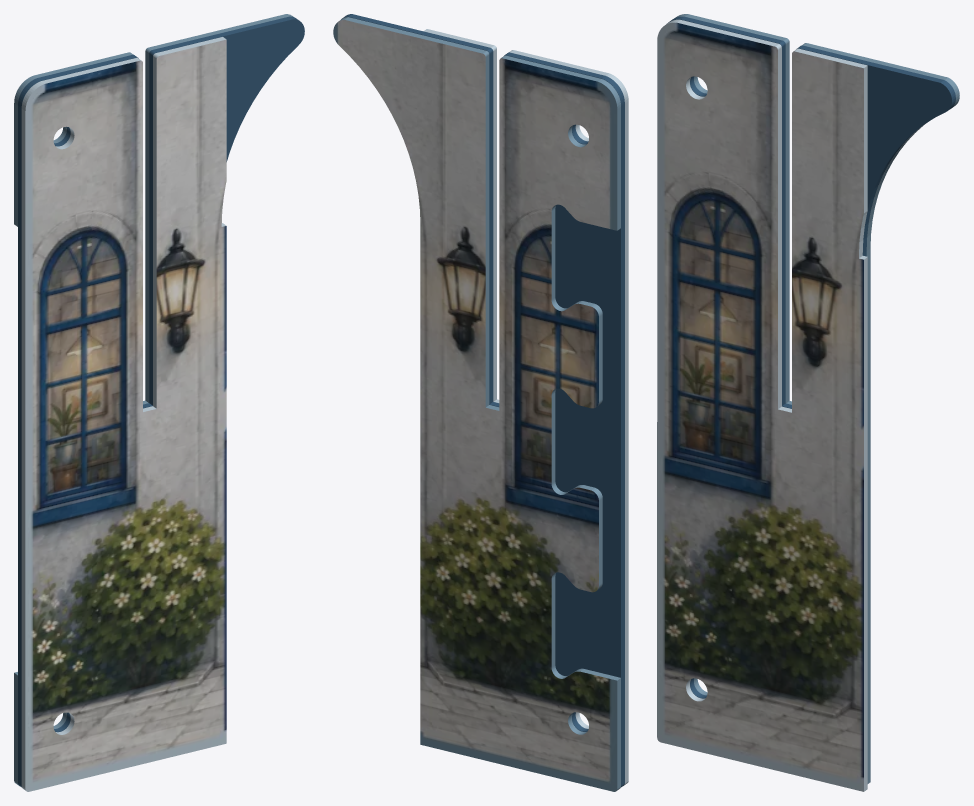
Rendered from door-panel-bottom-left-subpanel.glb.
3 views of the same model, side by side, from view 1: azimuth 30°, elevation 25°; view 2: azimuth 150°, elevation 25°; view 3: azimuth 330°, elevation 25° (orthographic). The views are drawn at different scales.
Parts seen in each view (by area): view 1: door-panel-bottom-left-subpanel; view 2: door-panel-bottom-left-subpanel; view 3: door-panel-bottom-left-subpanel.
Boxes of the visible parts, <box> form: door-panel-bottom-left-subpanel: <box>14,14,304,791</box>; door-panel-bottom-left-subpanel: <box>333,14,628,791</box>; door-panel-bottom-left-subpanel: <box>657,14,959,791</box>.
Size of the model in its own units: 389 by 925 by 27.
Materials: 5 (2 with a texture image).
